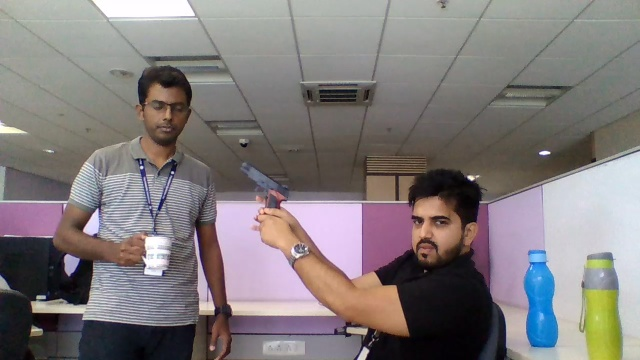gun: (238, 158, 290, 210)
